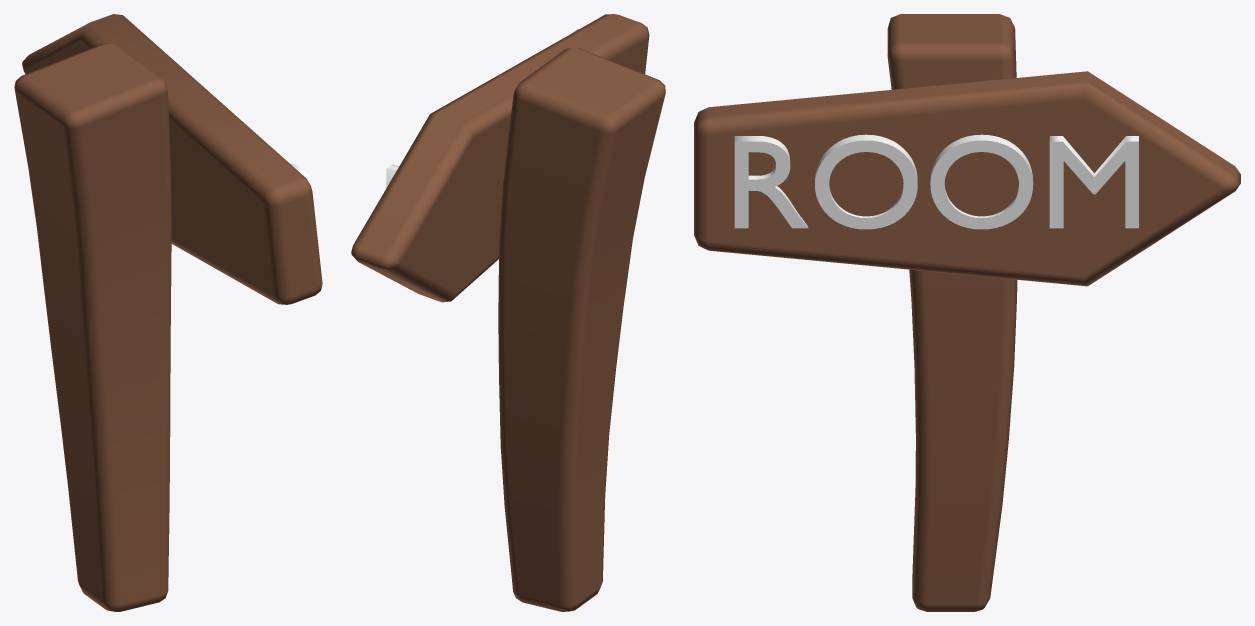
Rendered from room_direct.glb.
3 renders of one model, left to right at view 1: azimuth 30°, elevation 25°; view 2: azimuth 150°, elevation 25°; view 3: azimuth 270°, elevation 25°, orthographic. The views are drawn at different scales.
Parts seen in each view (by area): view 1: Plane.009, Plane.010; view 2: Plane.009, Plane.010; view 3: Plane.010, Plane.009, Text.
Boxes of the visible parts, x1,y1,x2,y2 form: Plane.009: (14, 43, 171, 611); Plane.010: (22, 14, 322, 304); Plane.009: (498, 48, 665, 611); Plane.010: (351, 14, 649, 302); Plane.010: (694, 71, 1240, 286); Plane.009: (887, 14, 1017, 611); Text: (734, 134, 1138, 229).
Bounding box in the file's own units: 0.6987 × 2.11 × 1.86.
